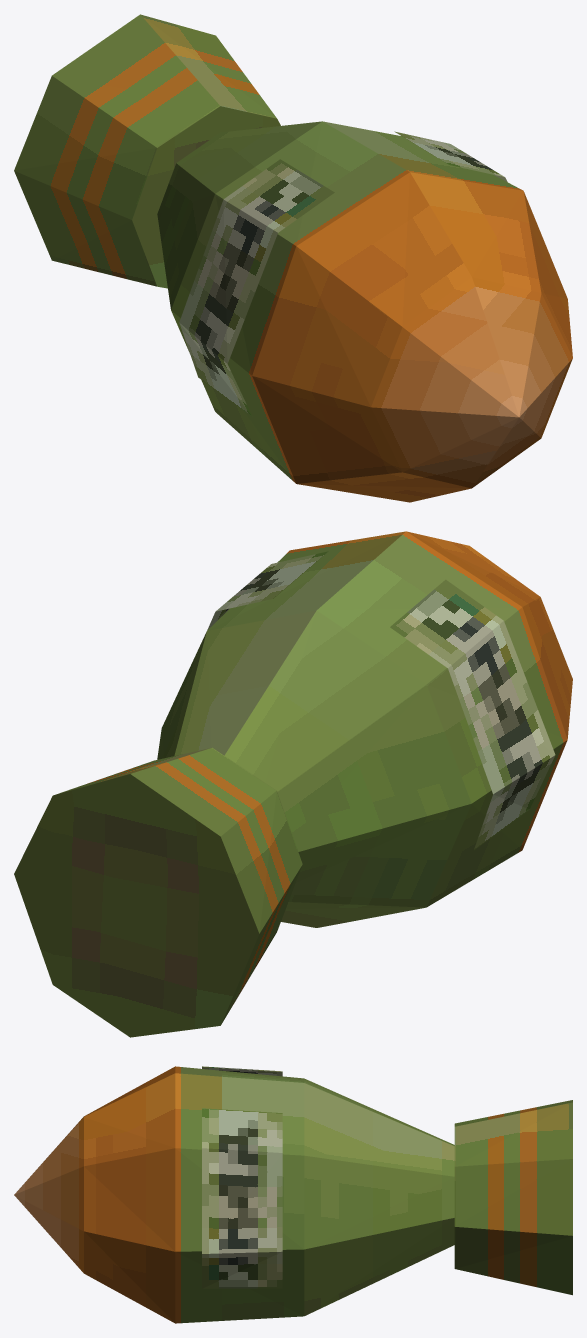
The model's file is WF_shell.obj.
3 views of the same model, one above another, from view 1: azimuth 30°, elevation 25°; view 2: azimuth 150°, elevation 25°; view 3: azimuth 270°, elevation 25° (orthographic). The views are drawn at different scales.
Parts seen in each view (by area): view 1: Node 0; view 2: Node 0; view 3: Node 0.
Boxes of the visible parts, left/top/right/bottom form: Node 0: left=14, top=14, right=572, bottom=502; Node 0: left=14, top=531, right=572, bottom=1037; Node 0: left=14, top=1066, right=572, bottom=1323.
Size of the model in its own units: 0.52 by 0.5 by 1.04.
1 material, 1 textured.
